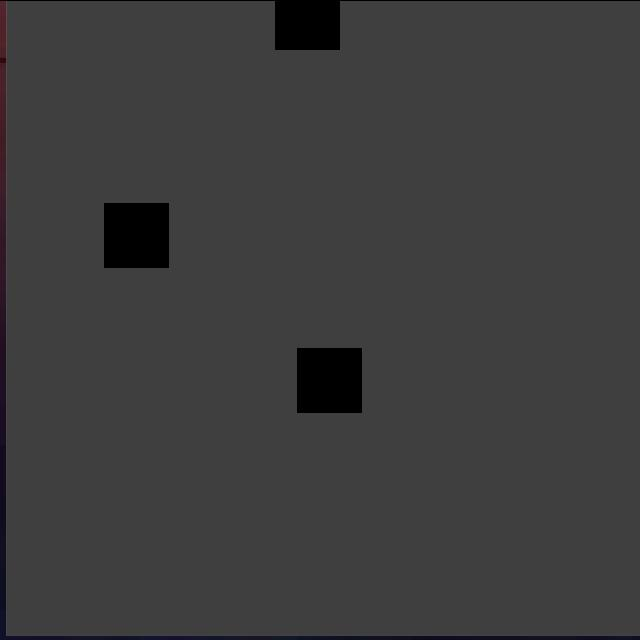fire: (6, 0, 640, 635)
